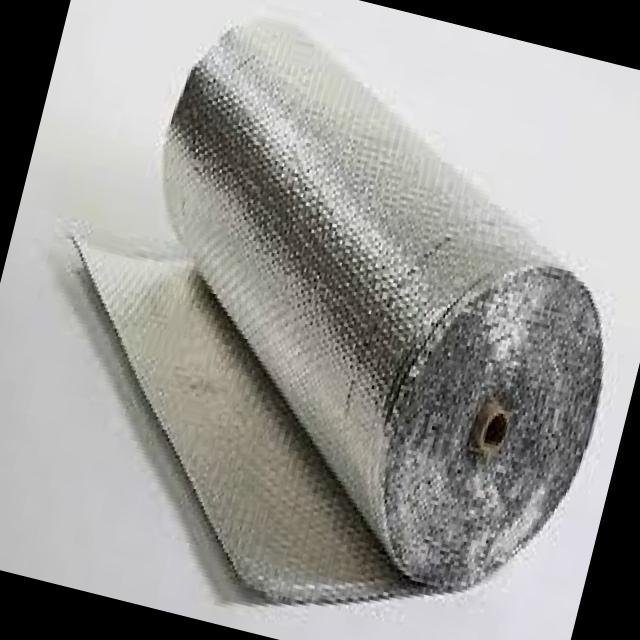kim_loai: (161, 22, 601, 593), (74, 238, 422, 605)
